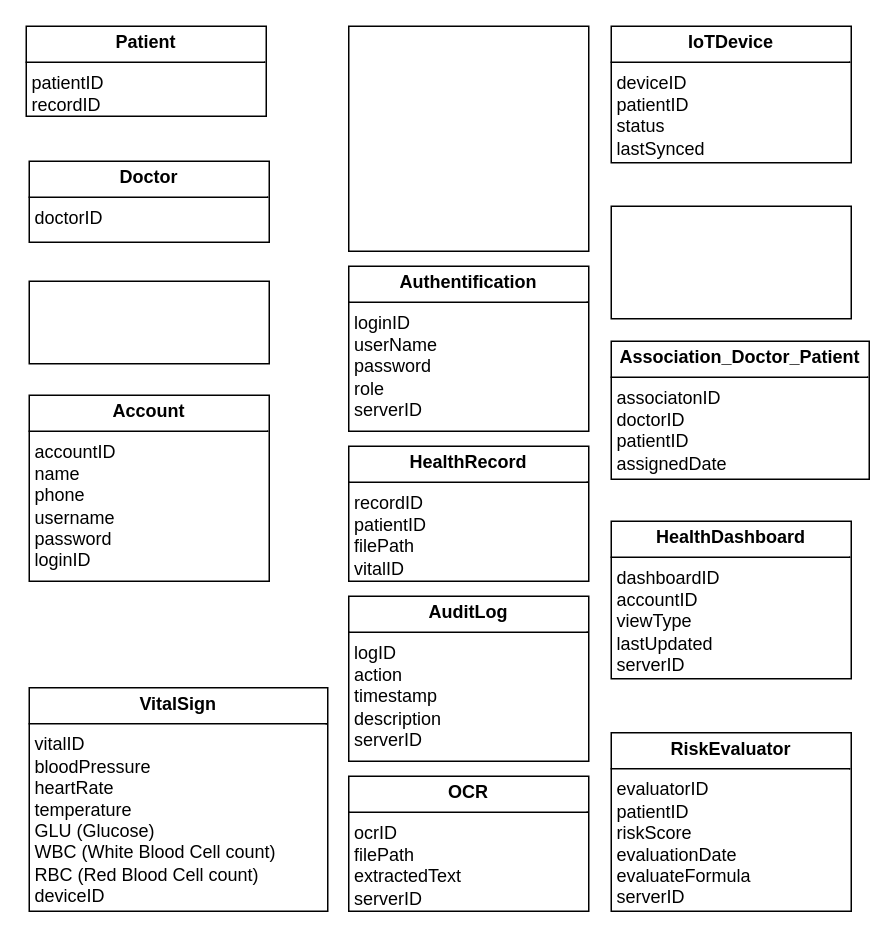
Image size: 896x938. Some labels were removed from this diagram. The centre of each missing label's shape, as x and y in pixels:
Admin adminID: point 148,322
Alert alertID patientID doctorID message alertLevel timestamp state serverID: point 468,138
CloudServer serverID status location: point 730,262
